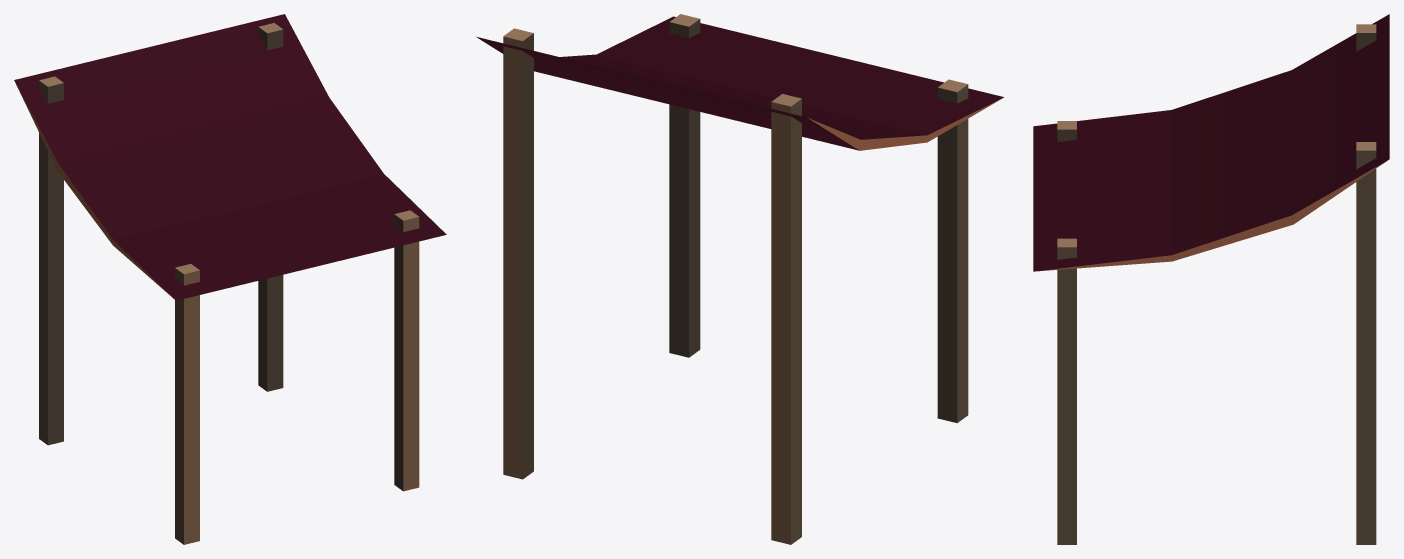
Rendered from TB_D_Prop_StoreTent_C.FBX.
The picture shows the model from 3 angles, left to right: view 1: azimuth 30°, elevation 25°; view 2: azimuth 150°, elevation 25°; view 3: azimuth 270°, elevation 25°; orthographic projection. The views are drawn at different scales.
Parts seen in each view (by area): view 1: TB_D_Prop_StoreTent_C; view 2: TB_D_Prop_StoreTent_C; view 3: TB_D_Prop_StoreTent_C.
Boxes of the visible parts, bbox=[...] form: TB_D_Prop_StoreTent_C: bbox=[14, 14, 446, 544]; TB_D_Prop_StoreTent_C: bbox=[476, 14, 1004, 544]; TB_D_Prop_StoreTent_C: bbox=[1033, 14, 1389, 544].
Bounding box in the file's own units: 2.33 × 2.95 × 2.41.
